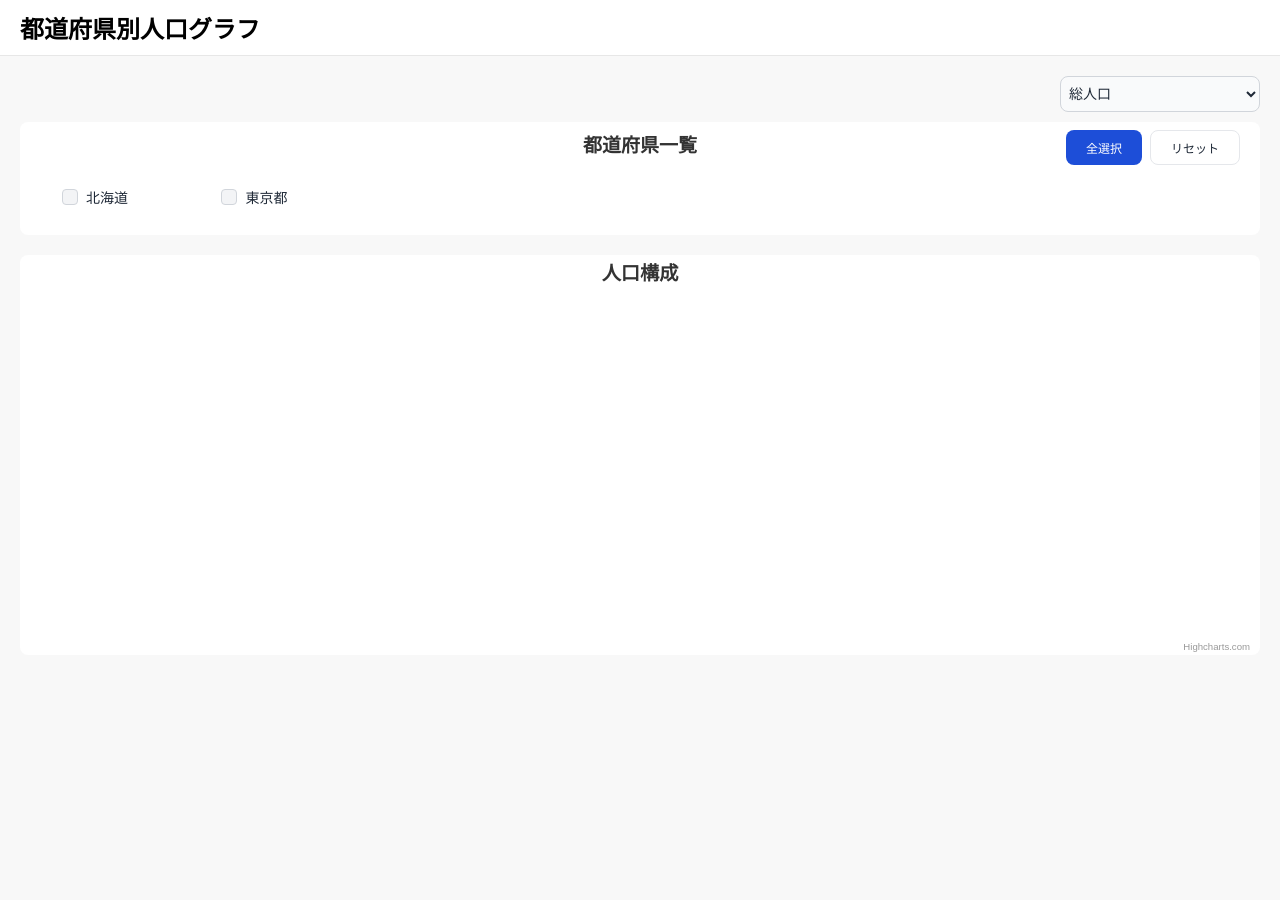
Test: App › handles select all button correctly
This screenshot has width=1280, height=900.
Click the button "全選択".
click(1104, 148)  # box [1066,130,1142,165]
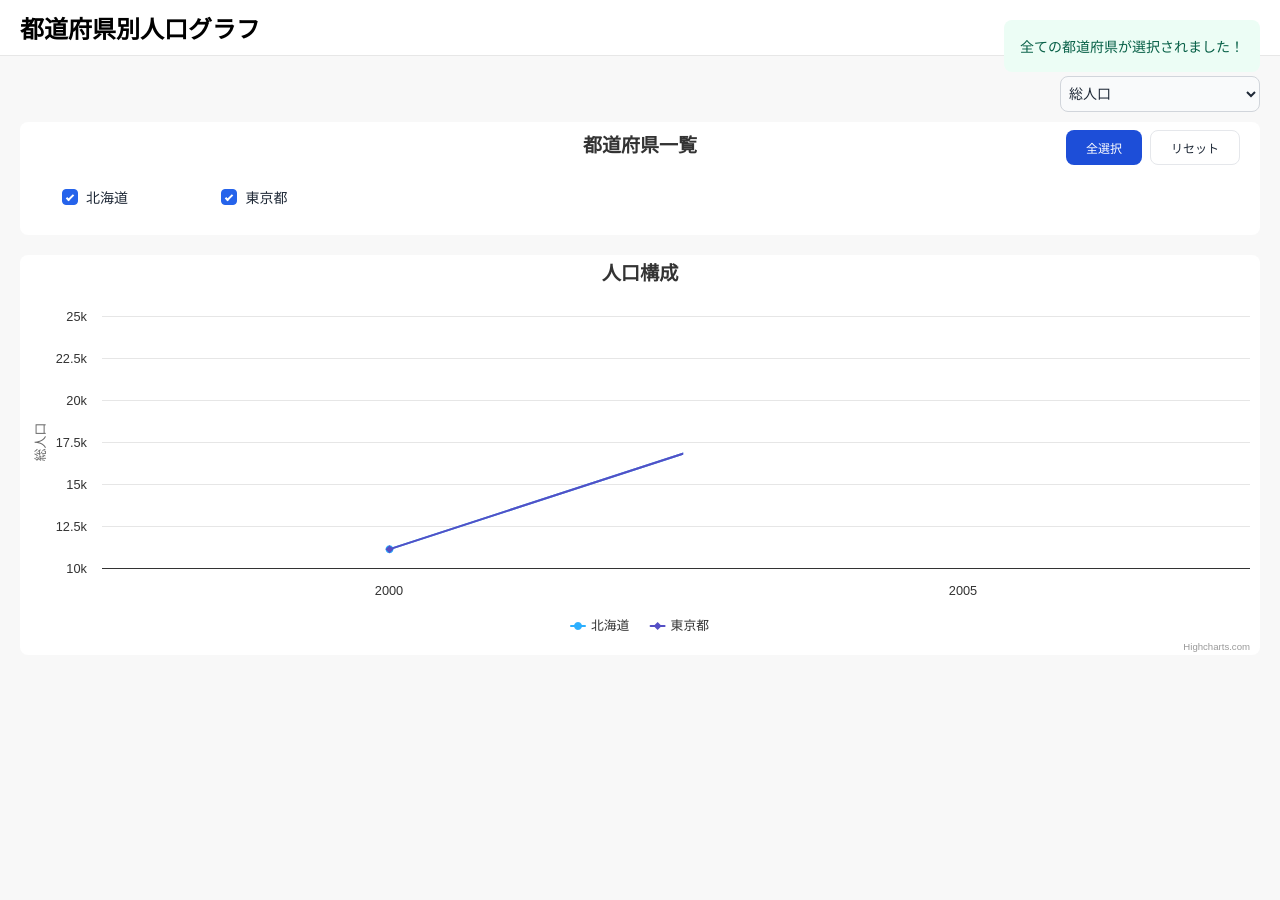
Expected: the text "全ての都道府県が選択されました！" is shown, [1004,20,1260,72]
